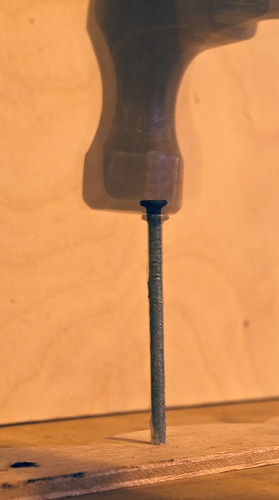hammer: (73, 1, 279, 215)
